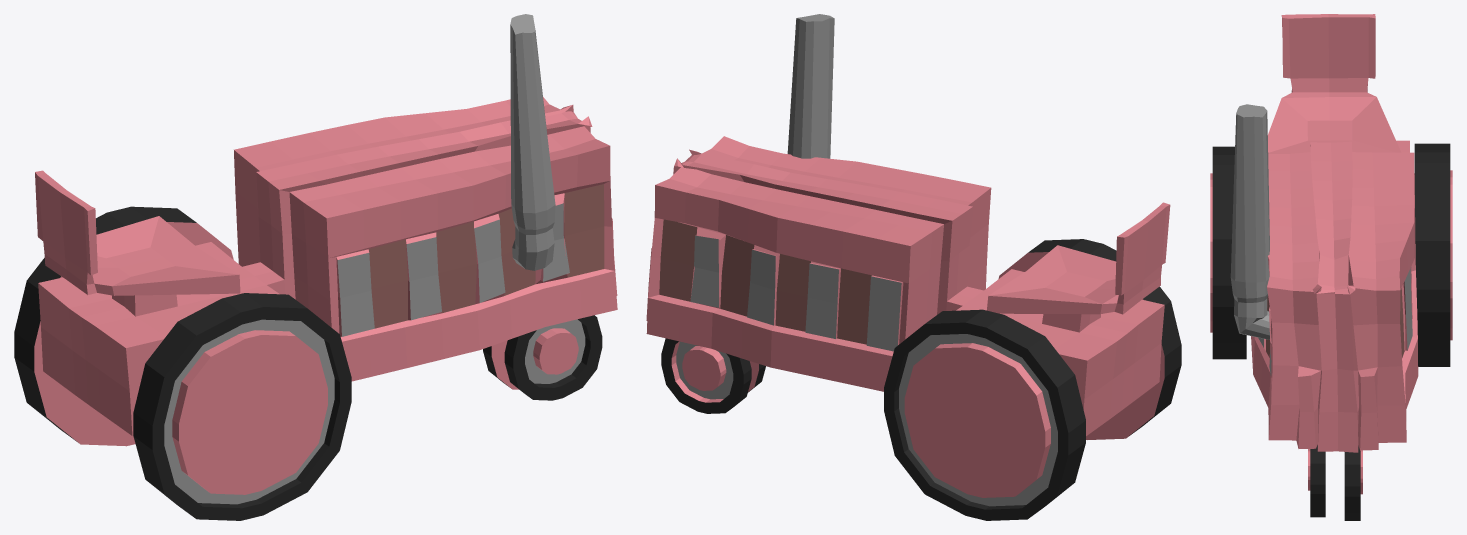
Rendered from tractor.fbx.
3 renders of one model, left to right at view 1: azimuth 30°, elevation 25°; view 2: azimuth 150°, elevation 25°; view 3: azimuth 270°, elevation 25°, orthographic. The views are drawn at different scales.
Visible parts, largest first — view 1: Cube, Cube.001, Cube.002; view 2: Cube, Cube.001, Cube.002; view 3: Cube, Cube.001, Cube.002.
Part boxes in pixels (left/top/right/bottom): Cube: left=35, top=97, right=617, bottom=435; Cube.001: left=14, top=206, right=602, bottom=520; Cube.002: left=510, top=14, right=555, bottom=270; Cube: left=646, top=136, right=1170, bottom=435; Cube.001: left=661, top=239, right=1181, bottom=520; Cube.002: left=787, top=14, right=834, bottom=158; Cube: left=1251, top=14, right=1418, bottom=452; Cube.001: left=1210, top=143, right=1452, bottom=520; Cube.002: left=1230, top=104, right=1269, bottom=339.
Bounding box in the file's own units: 671 × 500 × 292.
